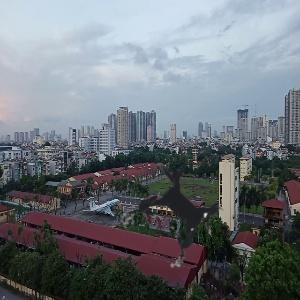drone: (95, 131, 262, 298)
